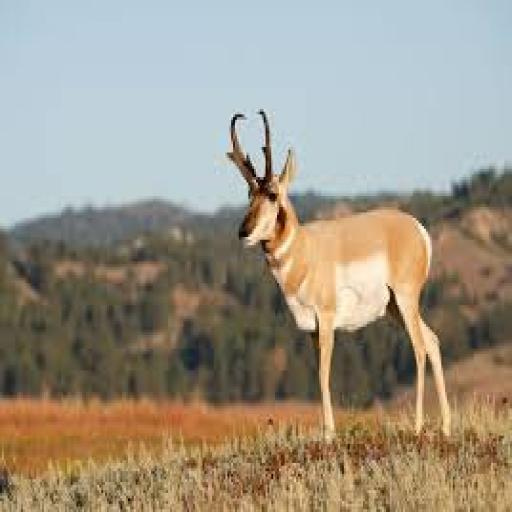antelope: (206, 88, 470, 478)
